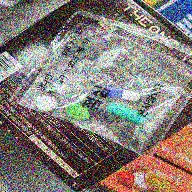러키펜정: (36, 96, 58, 112)
씨엠지세파클러캡슐: (100, 87, 141, 102)
에르도캡슐: (105, 102, 147, 125)
휴티렌정: (63, 101, 90, 121)
